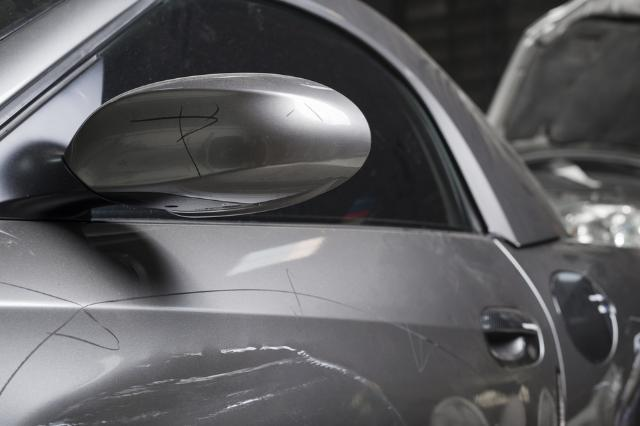Door: (15, 284, 547, 426)
